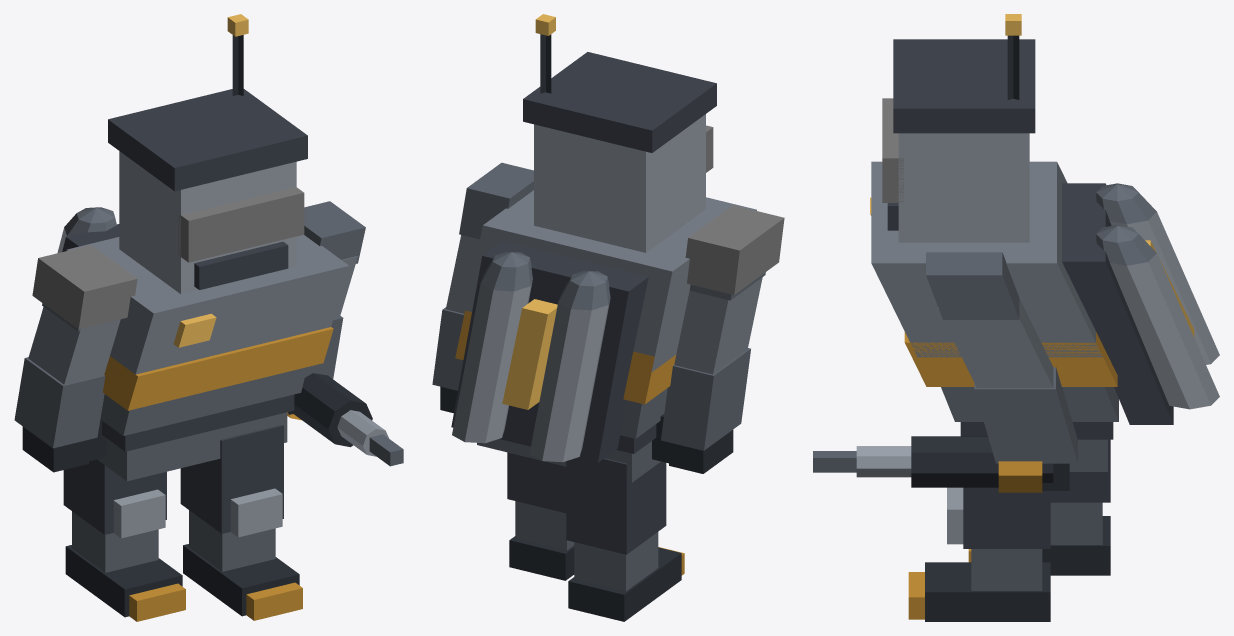
The model's file is engineer-attack-2.obj.
3 renders of one model, left to right at view 1: azimuth 30°, elevation 25°; view 2: azimuth 150°, elevation 25°; view 3: azimuth 270°, elevation 25°, orthographic. The views are drawn at different scales.
Visible parts, largest first — view 1: engineer-attack-2; view 2: engineer-attack-2; view 3: engineer-attack-2.
Part boxes in pixels (x1,y1,x2,y2): engineer-attack-2: [14, 14, 403, 621]; engineer-attack-2: [432, 14, 784, 621]; engineer-attack-2: [813, 14, 1219, 621].
Bounding box in the file's own units: 1.31 × 2.4 × 1.49.
